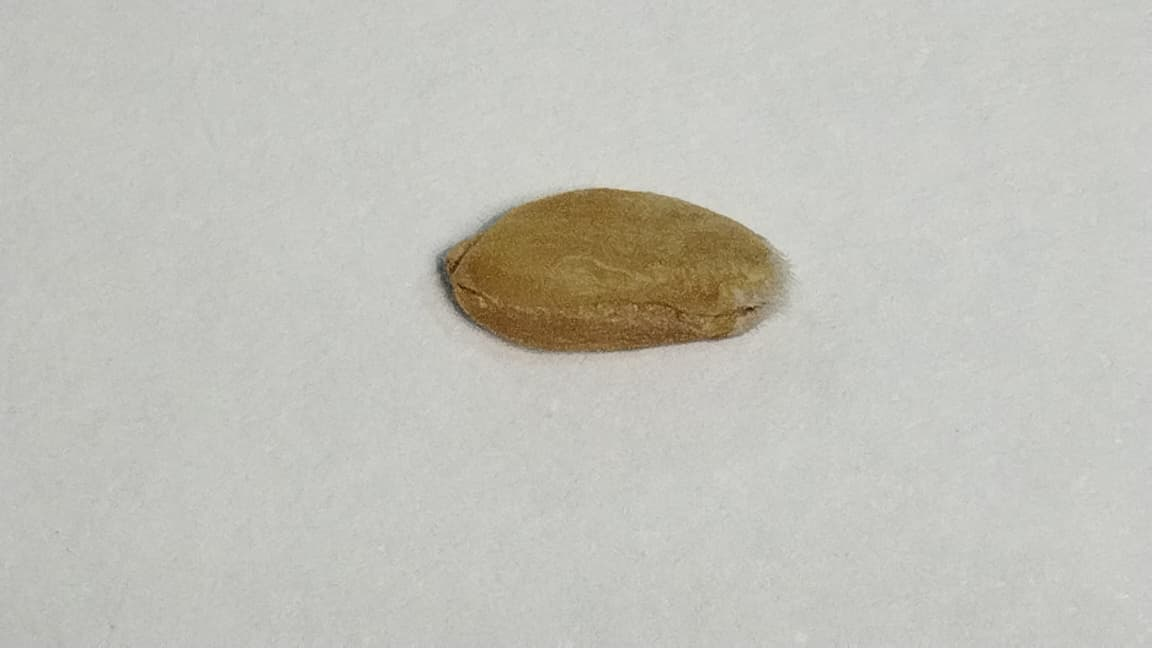healthy: (442, 187, 793, 350)
